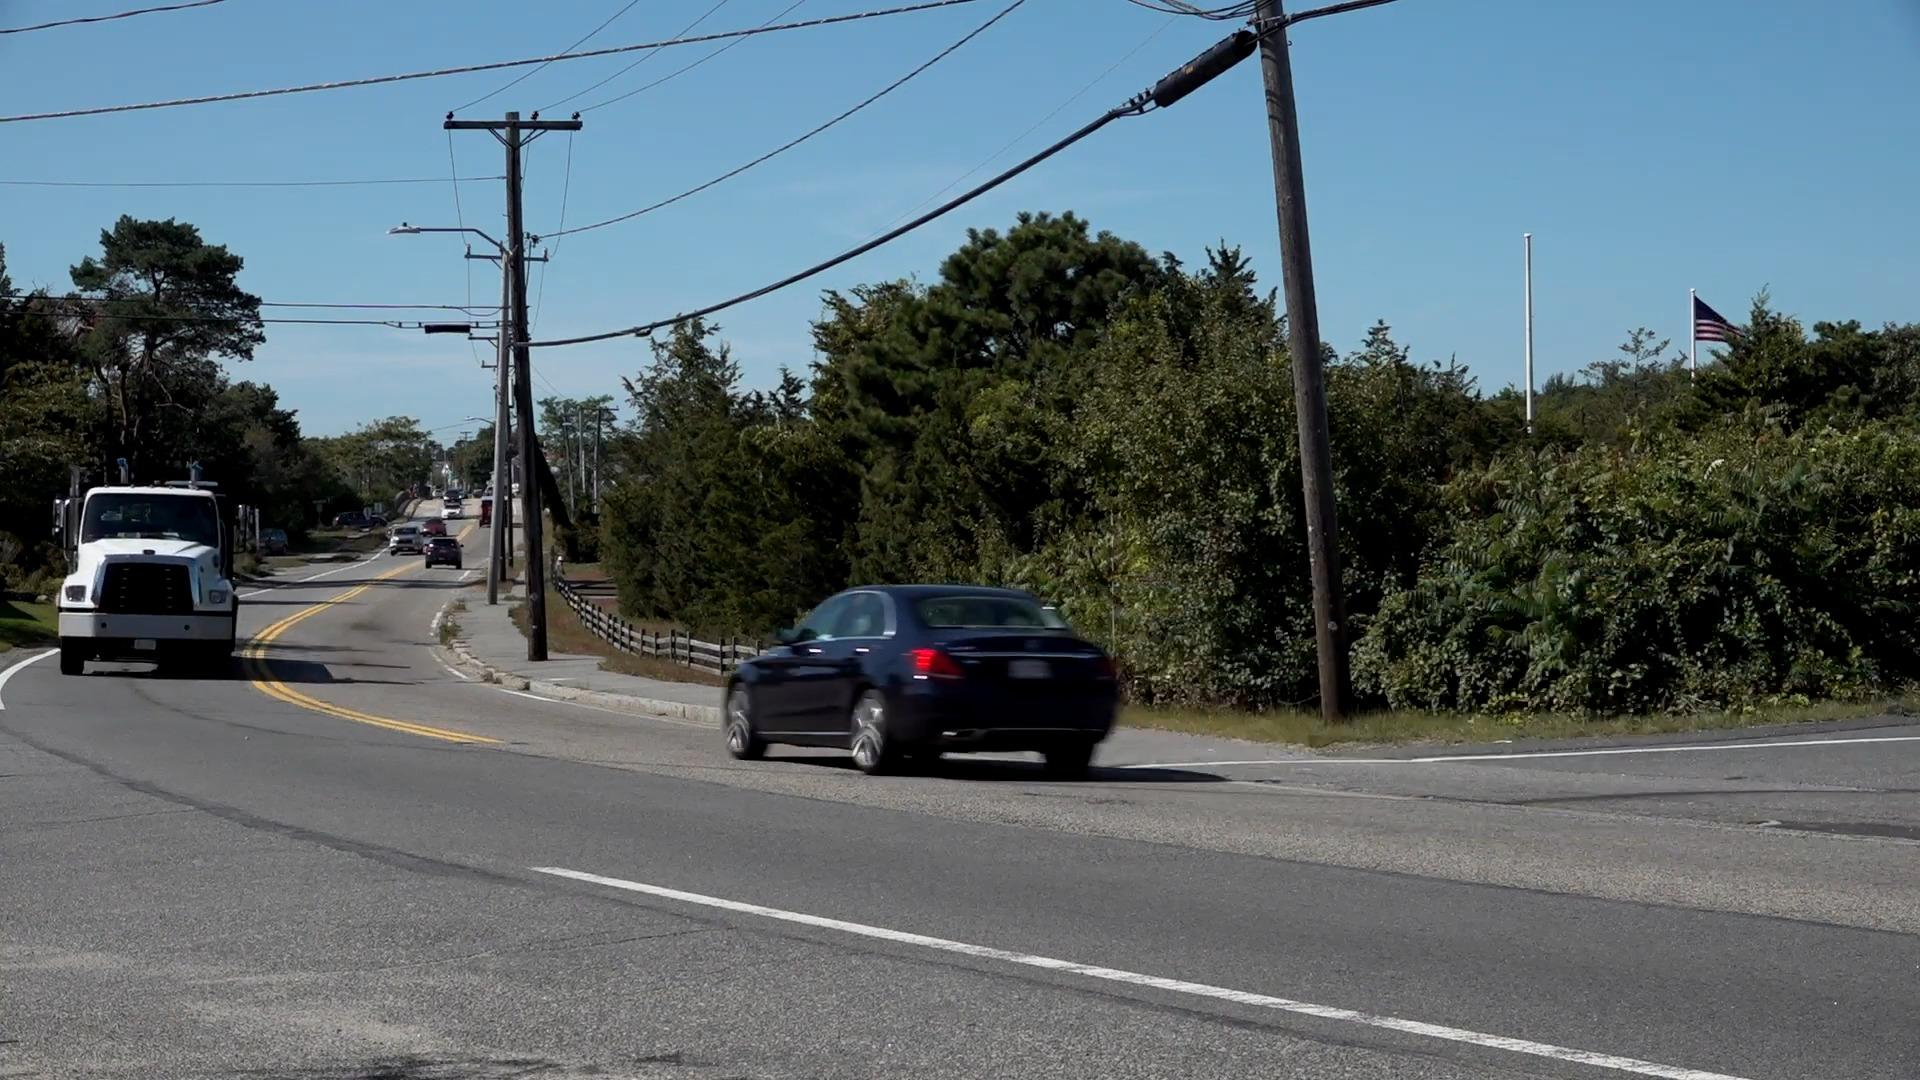sedans: (722, 575, 1123, 782)
truck: (55, 453, 250, 672)
